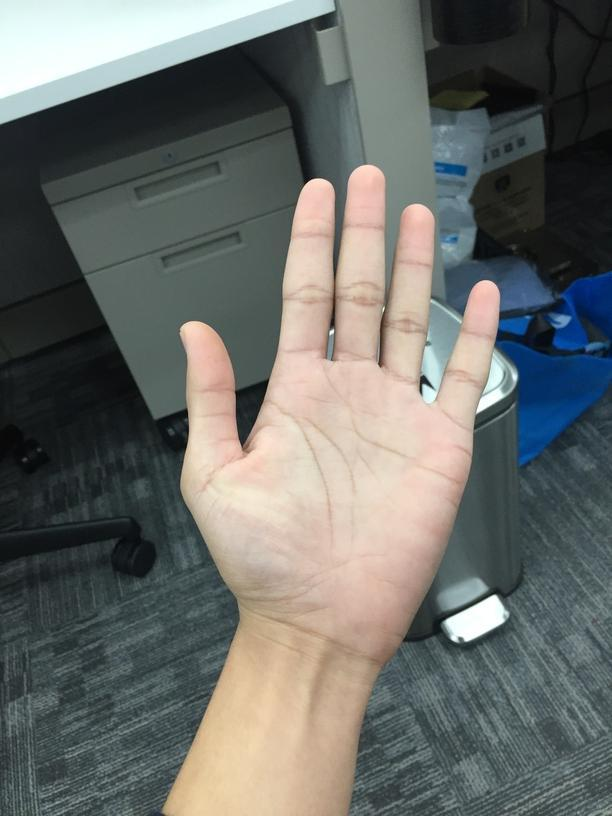hand: (174, 161, 506, 676)
